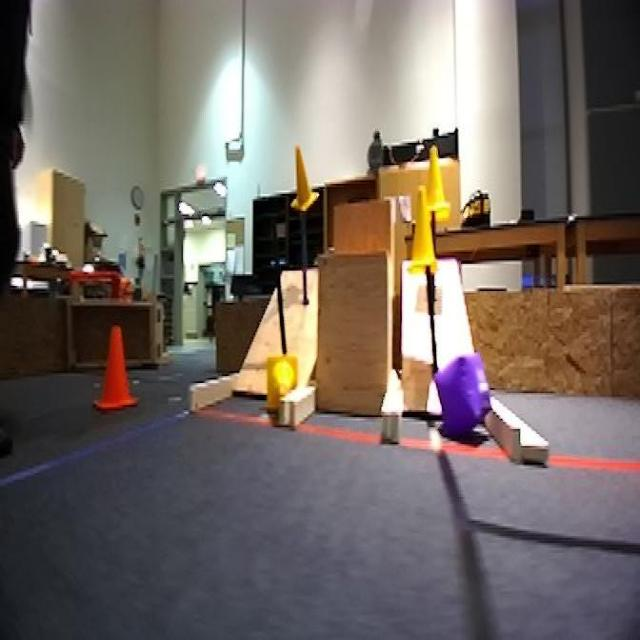frc_cone: (407, 185, 442, 272), (421, 148, 451, 221), (266, 352, 299, 416), (291, 144, 319, 214)
frc_cube: (434, 347, 492, 436)
